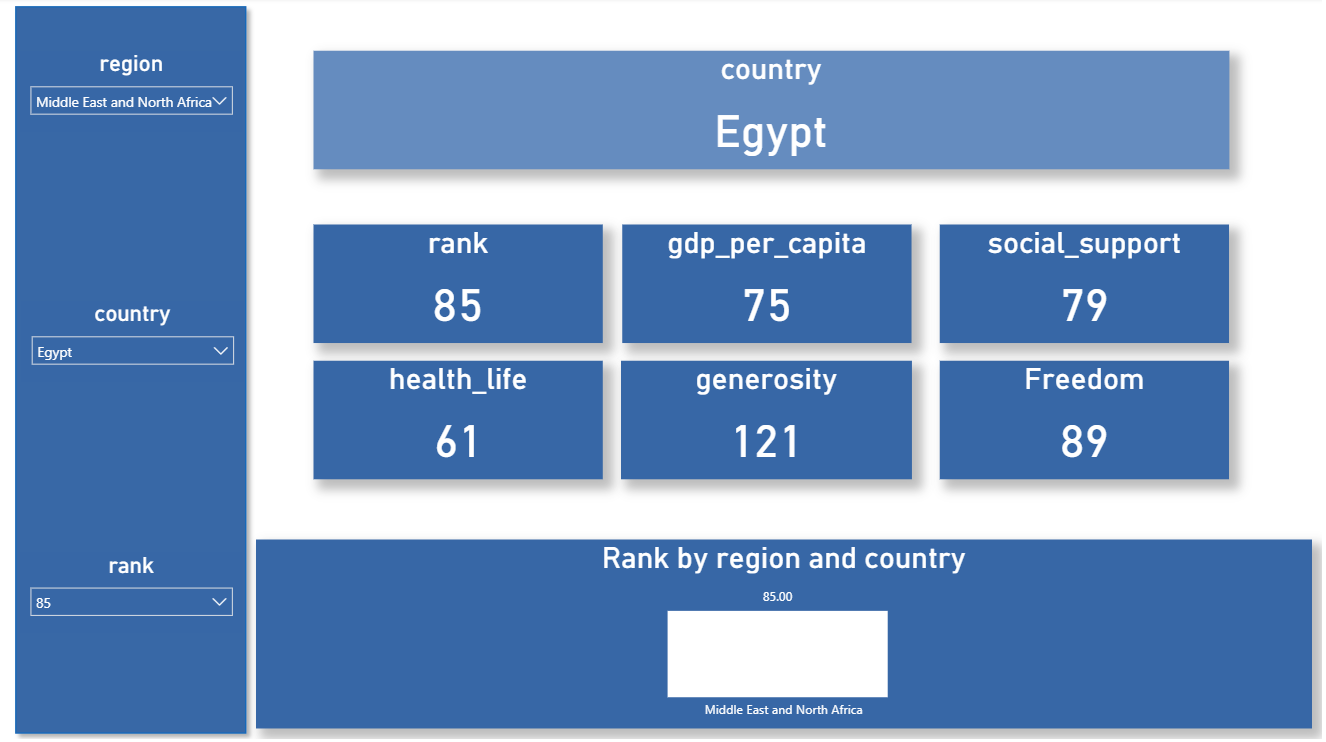

What the dashboard file says about the page in this screenshot:
{"tool":"powerbi","page":{"name":"Egypt","canvas":[1280,720],"ordinal":2},"visuals":[{"type":"card","title":"rank","fields":{"Values":["Max(world_happiness_2026 (3).rank)"]},"box":[307,219.5,279.4,114],"z":0},{"type":"card","title":"country","fields":{"Values":["Min(world_happiness_2026 (3).country)"]},"box":[307,51.3,883.7,114],"z":1000},{"type":"shape","box":[10,0,240.9,719.8],"z":2000},{"type":"slicer","title":"country","fields":{"Values":["world_happiness_2026 (3).country"]},"box":[24.2,293.6,215.2,78.4],"z":3000},{"type":"slicer","title":"region","fields":{"Values":["world_happiness_2026 (3).region"]},"box":[22.8,51.3,215.2,78.4],"z":4000},{"type":"slicer","title":"rank","fields":{"Values":["world_happiness_2026 (3).rank"]},"box":[22.8,535.9,215.2,78.4],"z":5000},{"type":"columnChart","title":"Rank by region and country","fields":{"Category":["world_happiness_2026 (3).region","world_happiness_2026 (3).country"],"Y":["Avg(world_happiness_2026 (3).rank)"]},"box":[250.9,523.1,1019.2,182.4],"z":6000},{"type":"card","title":"Freedom","fields":{"Values":["world_happiness_2026 (3).Selected Country Rank"]},"box":[911.4,350.6,279.4,114],"z":7000},{"type":"card","title":"health_life","fields":{"Values":["world_happiness_2026 (3).health_life"]},"box":[307,350.6,279.4,114],"z":8000},{"type":"card","title":"gdp_per_capita","fields":{"Values":["world_happiness_2026 (3).gdp_per_capita.."]},"box":[604.9,219.5,279.4,114],"z":9000},{"type":"card","title":"social_support","fields":{"Values":["world_happiness_2026 (3).social_support."]},"box":[911.4,219.5,279.4,114],"z":10000},{"type":"card","title":"generosity","fields":{"Values":["world_happiness_2026 (3).generosity."]},"box":[603.5,350.6,280.8,114],"z":10001}]}

Visuals, with their boxes in screenshot pixels (x1, y1, x2, y2), scaled from the page's 1280x720 canvas onto the 1326x742 screenshot:
"rank" card: [318,226,607,344]
"country" card: [318,53,1233,170]
shape: [10,0,260,741]
"country" slicer: [25,303,248,383]
"region" slicer: [24,53,247,134]
"rank" slicer: [24,552,247,633]
"Rank by region and country" columnChart: [260,539,1316,727]
"Freedom" card: [944,361,1234,479]
"health_life" card: [318,361,607,479]
"gdp_per_capita" card: [627,226,916,344]
"social_support" card: [944,226,1234,344]
"generosity" card: [625,361,916,479]
